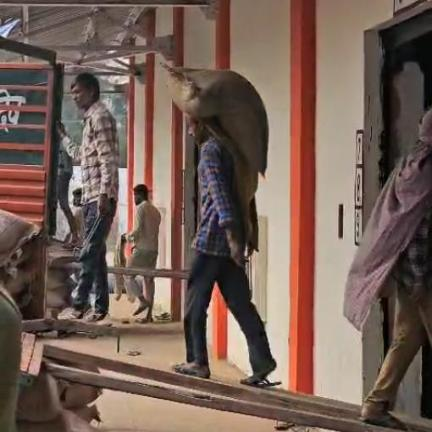Zone-Counting: (168, 66, 275, 384)
